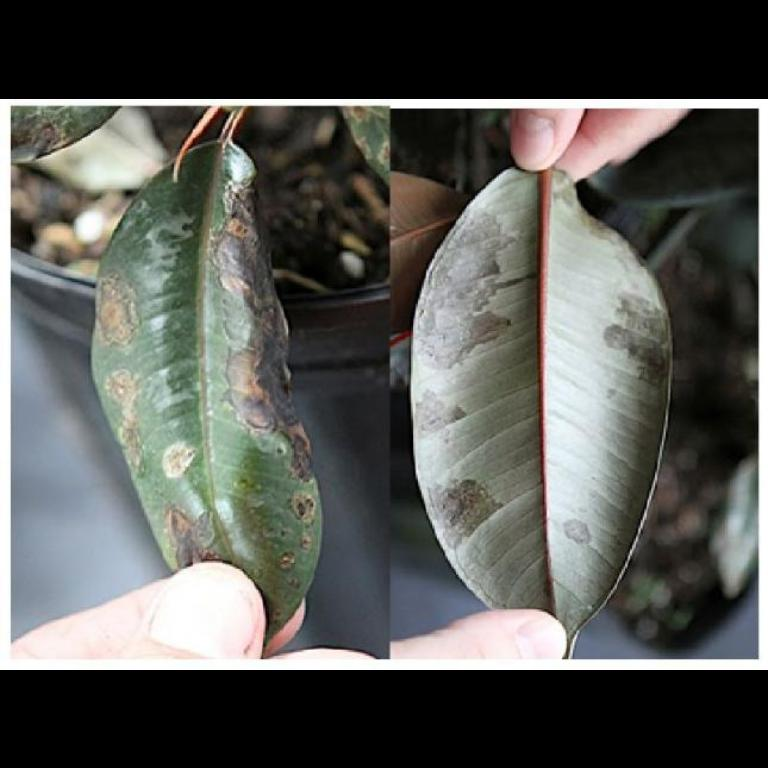blight: (194, 190, 332, 462)
